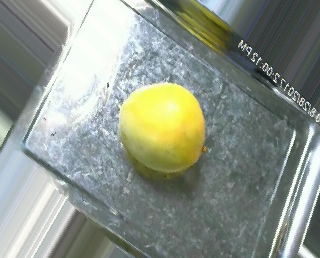Mango: (118, 81, 207, 175)
